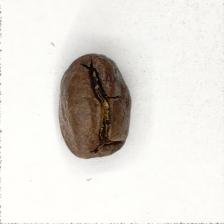NG: (71, 61, 125, 155)
